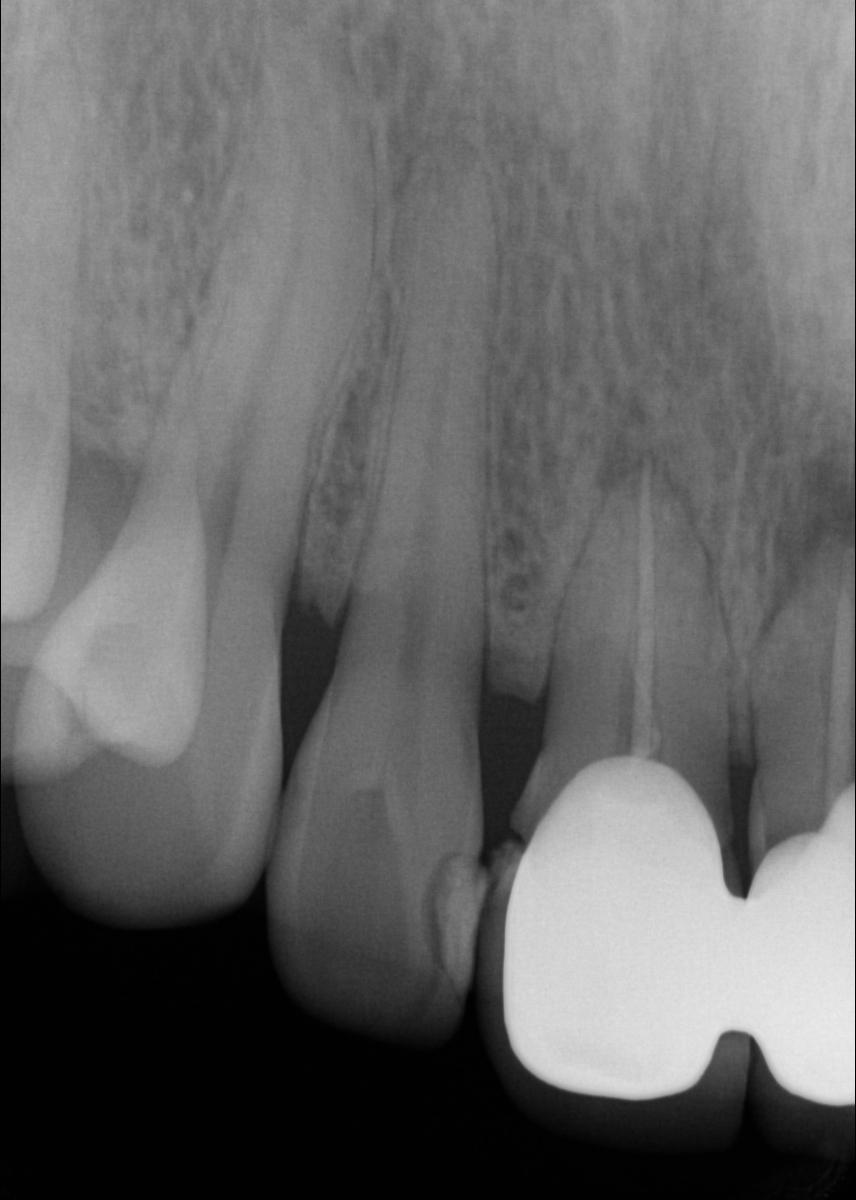Furcation Involvement: (765, 450, 855, 628), (592, 417, 678, 501)
